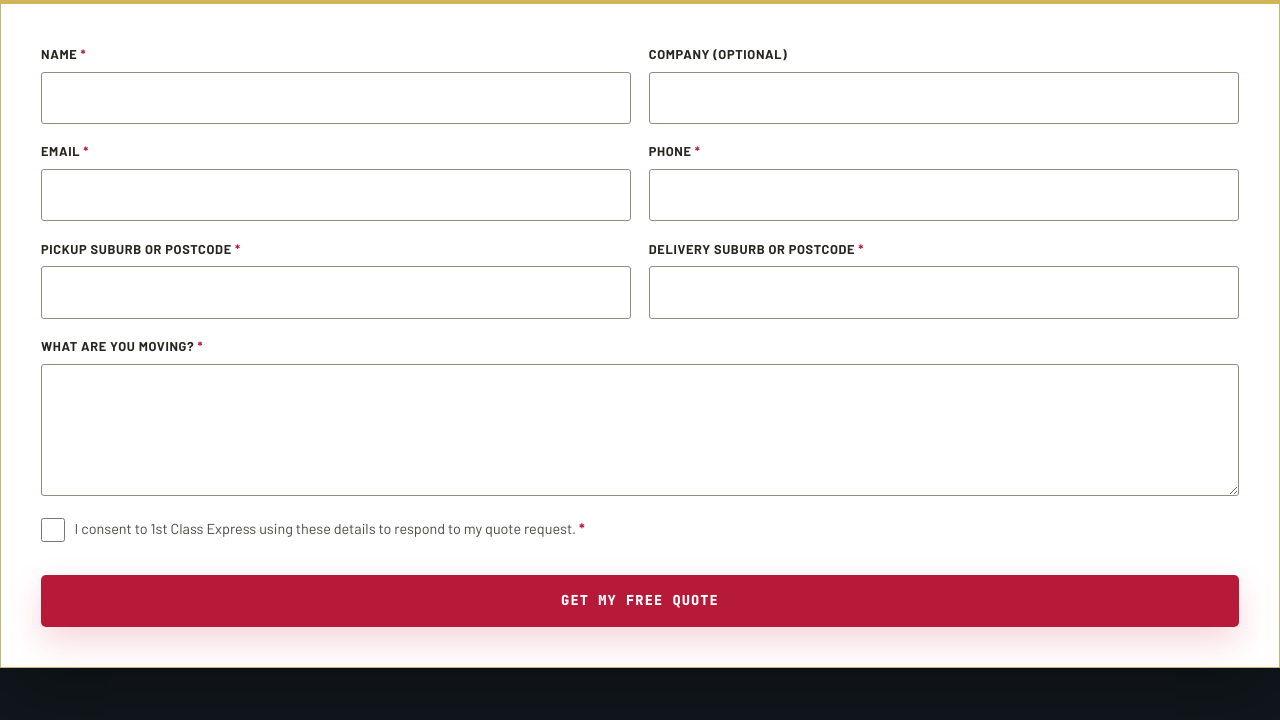
Scenario: forms › shows quick quote validation errors
The image size is (1280, 720).
Click the button "Get My Free Quote" at [640, 601], box [41,575,1239,627]
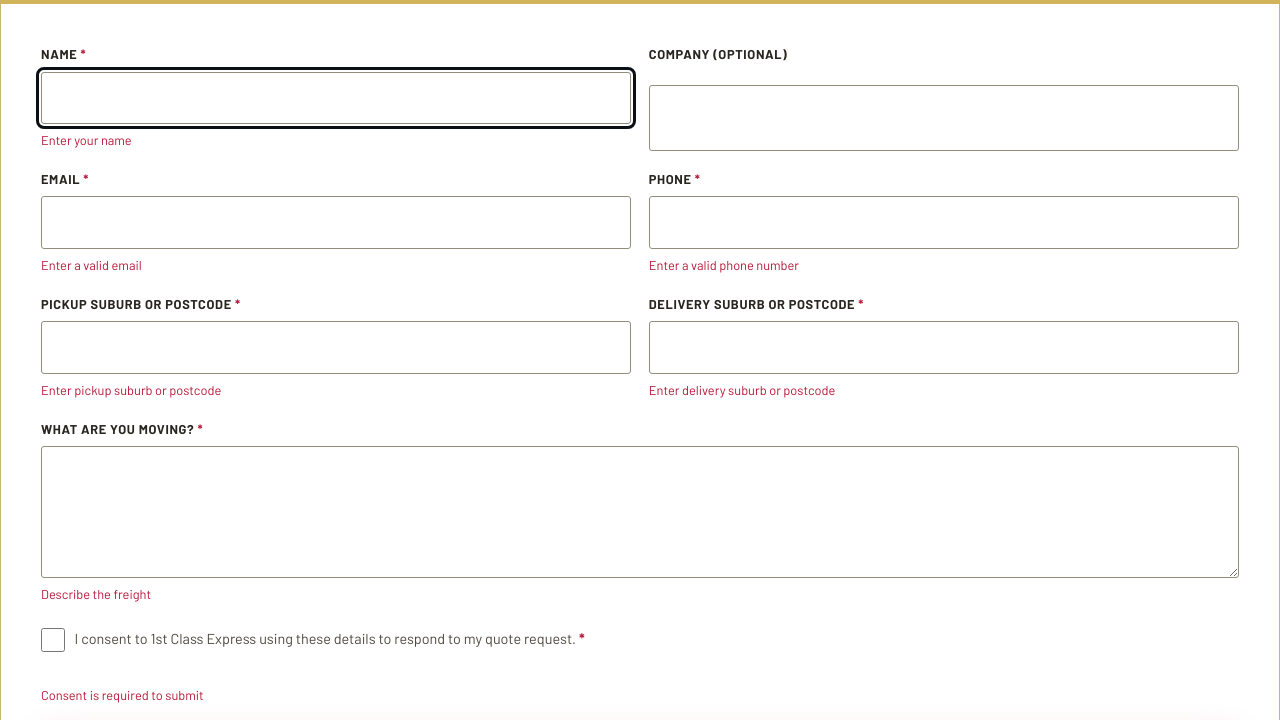
Result: the text "Enter your name" is shown at [41,132,132,148]
Result: the text "Enter pickup suburb or postcode" is shown at [41,382,221,398]
Result: the text "Consent is required to submit" is shown at [41,687,204,703]
